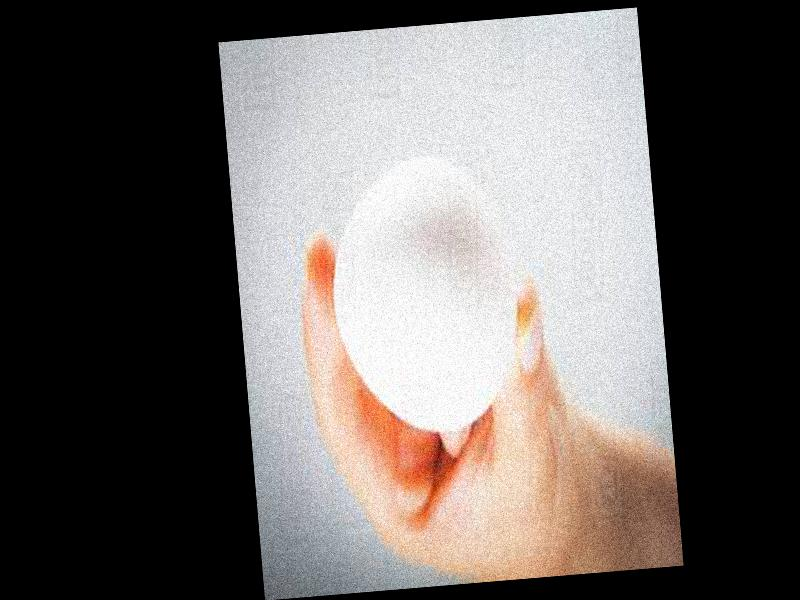Eggs: (322, 151, 523, 437)
